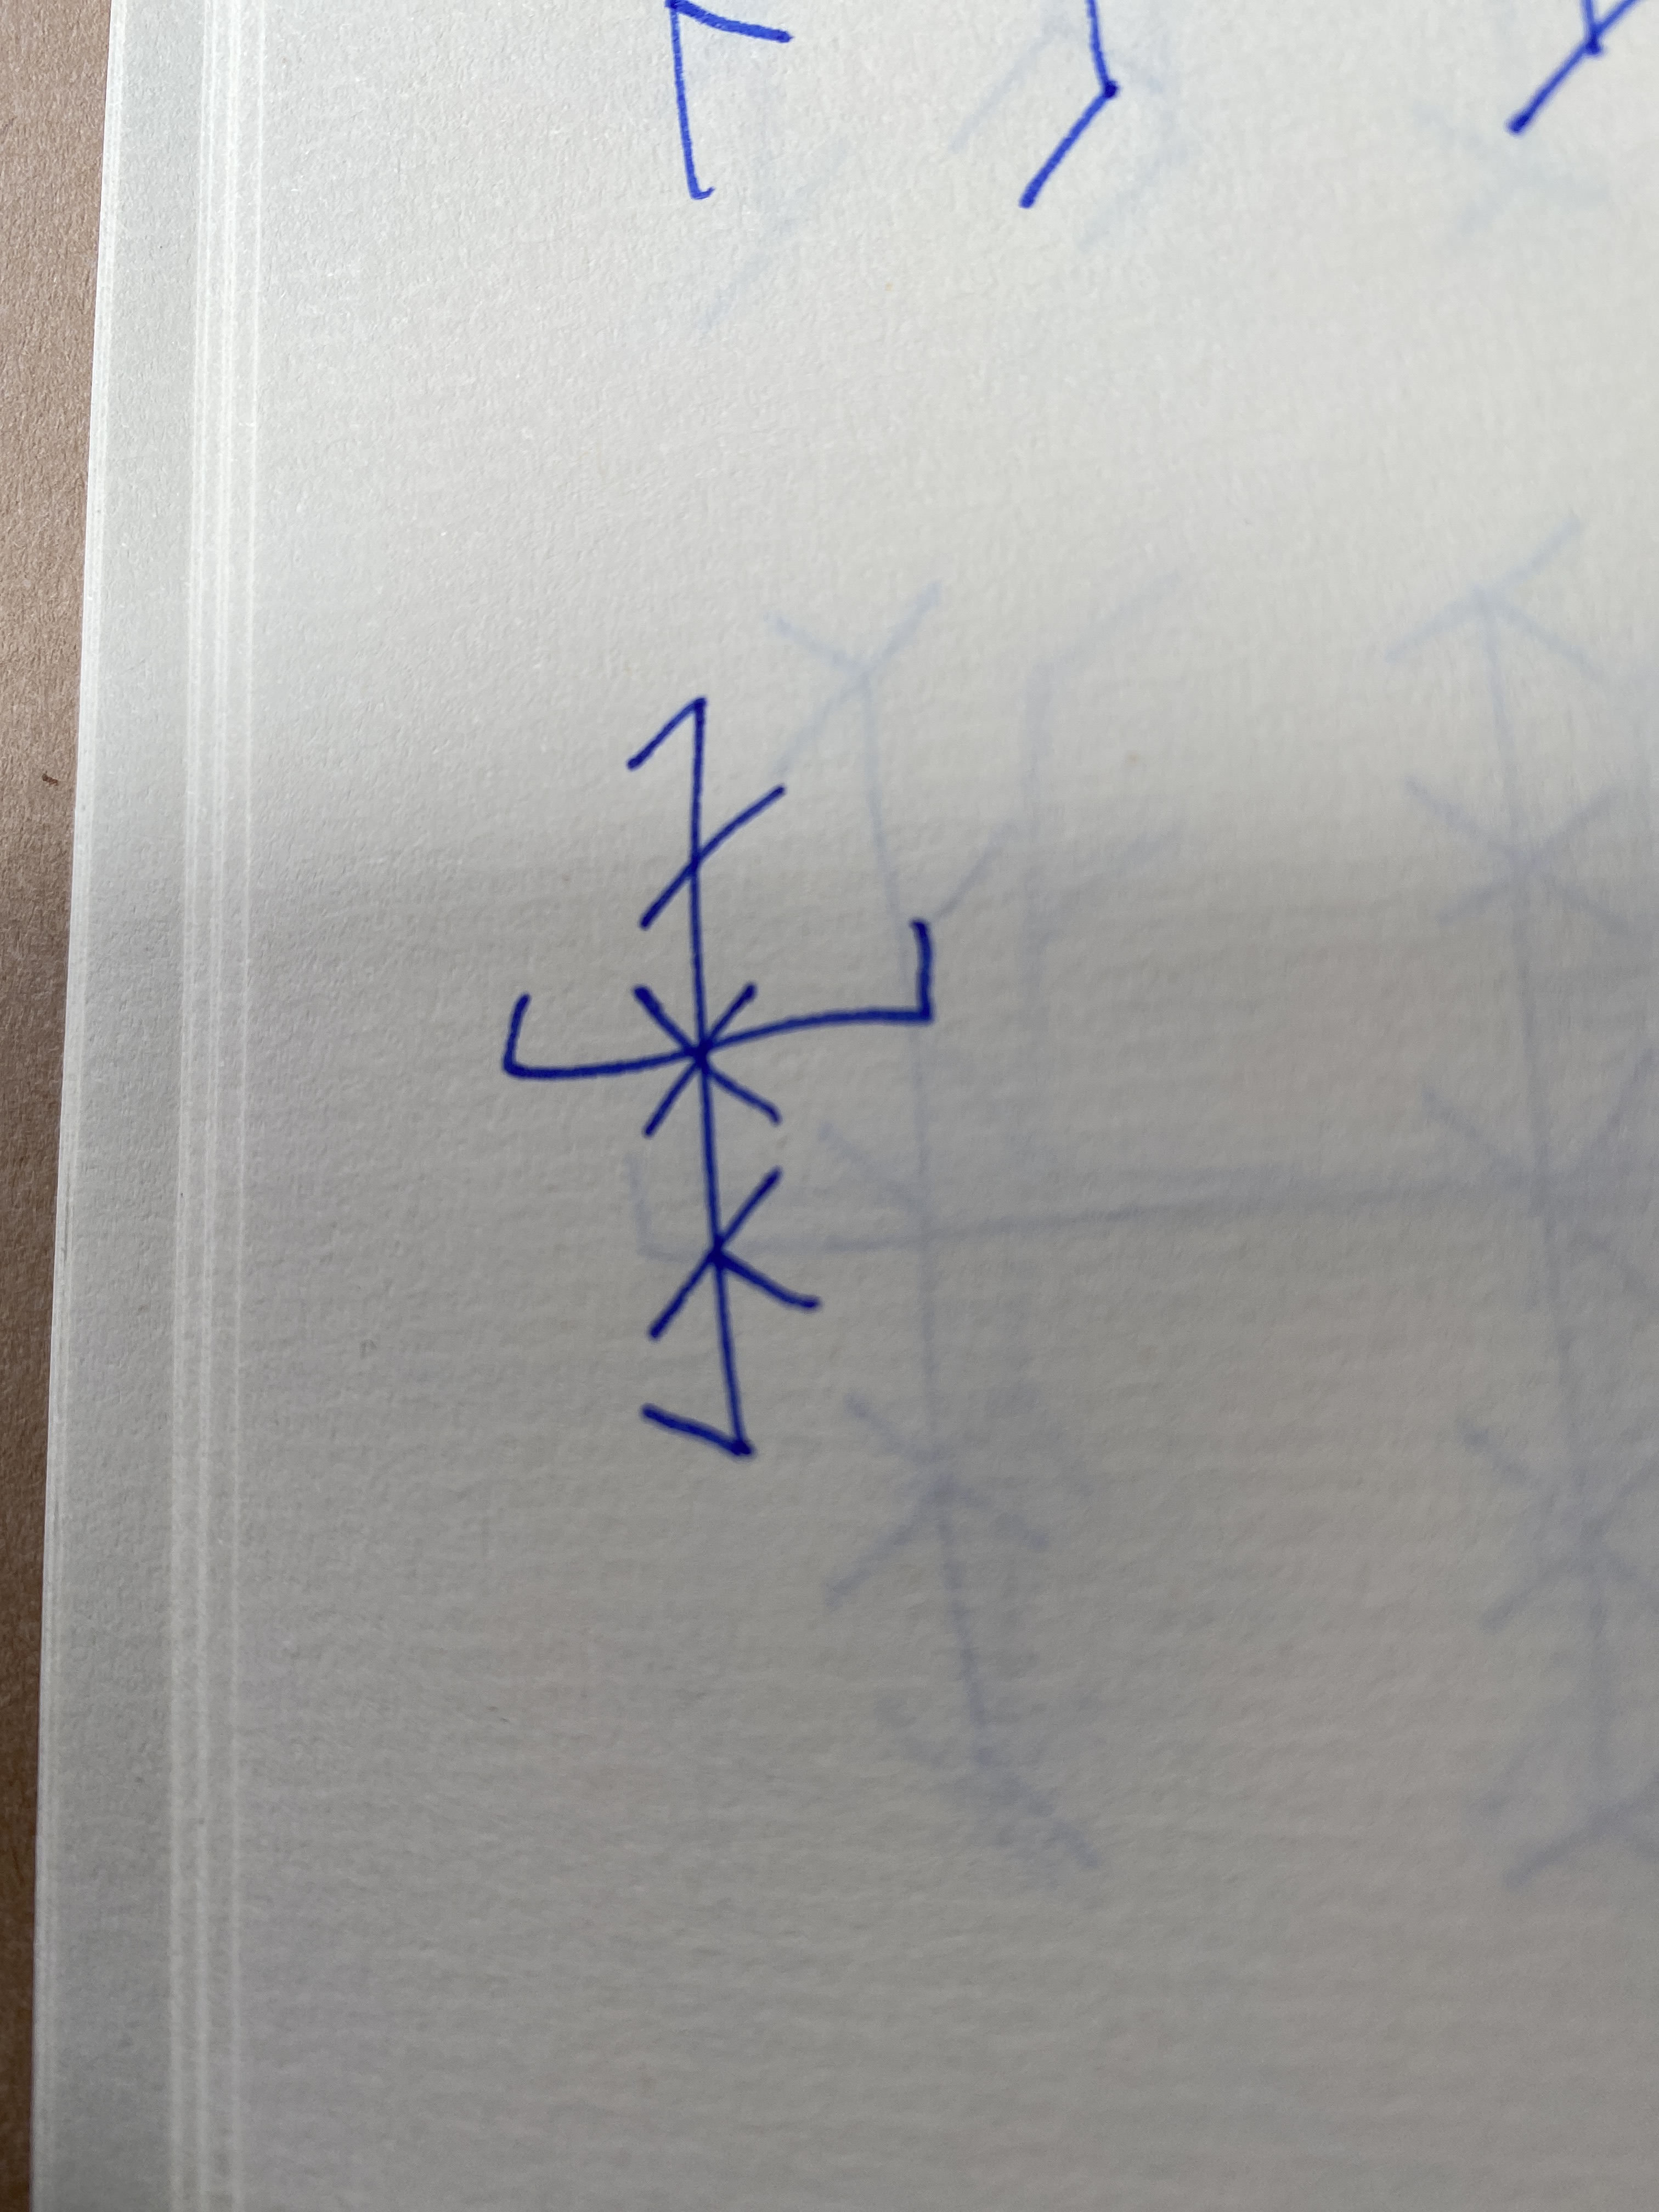Bar: (624, 698, 823, 1461)
Barcode: (502, 698, 936, 1461)
End: (760, 920, 932, 1047)
Start: (500, 993, 633, 1080)
